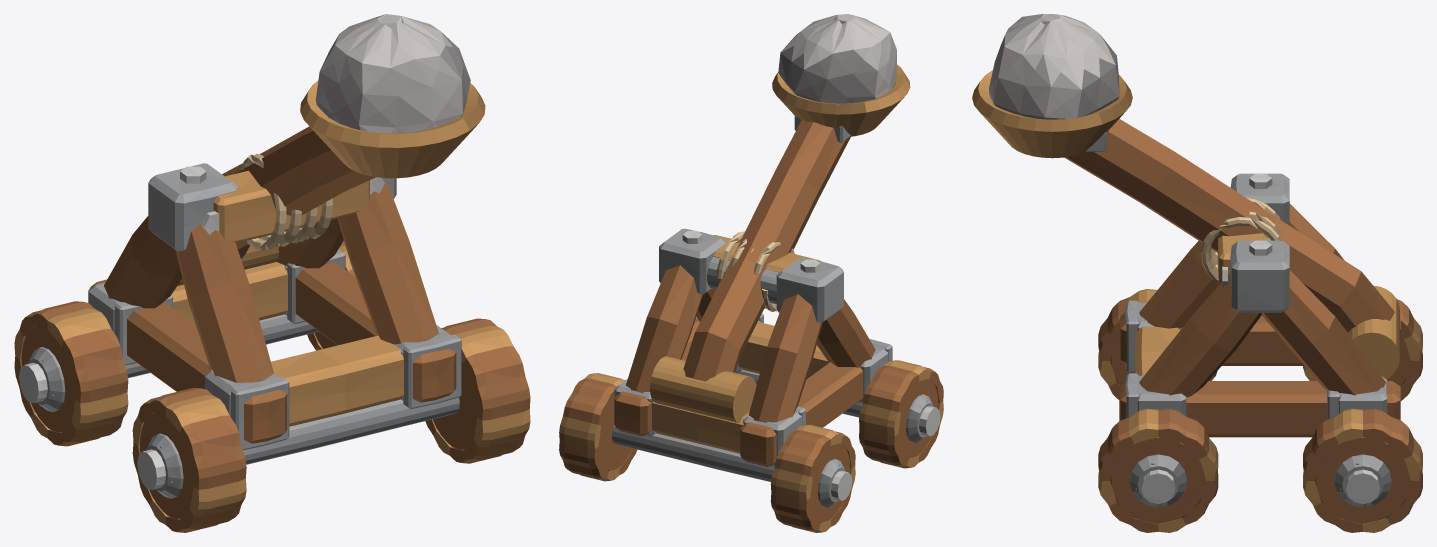
File: stonewarden.glb
3 views of the same model, side by side, from view 1: azimuth 30°, elevation 25°; view 2: azimuth 150°, elevation 25°; view 3: azimuth 270°, elevation 25° (orthographic). The views are drawn at different scales.
Parts seen in each view (by area): view 1: Catapult — supported angular loaded stone, Catapult — front shaped A frame 1, Catapult — front shaped A frame -1, Siege carriage — wheel 1 -0.285 — source angular joined timb (×6), Siege carriage — wheel 1 0.285 — source angular joined timbe (×6), Siege carriage — chamfered cross timber -0.28, Siege carriage — chamfered main timber 1, Catapult — deep open wooden stone bowl and turned lip, Siege carriage — wheel -1 -0.285 — source angular joined tim (×5), Siege carriage — chamfered main timber -1, Catapult — single inclined chamfered throwing beam, Siege carriage — physical axle -0.285 (+21 smaller); view 2: Catapult — single inclined chamfered throwing beam, Catapult — supported angular loaded stone, Catapult — rear shaped A frame 1, Catapult — rear shaped A frame -1, Catapult — rear transverse loading winch, Siege carriage — chamfered main timber 1, Siege carriage — wheel 1 0.285 — source angular joined timbe (×4), Siege carriage — wheel 1 -0.285 — source angular joined timb (×4), Siege carriage — wheel -1 0.285 — source angular joined timb (×4), Catapult — deep open wooden stone bowl and turned lip, Siege carriage — physical axle 0.285, Catapult — broad metal pivot collar 1 (+17 smaller); view 3: Catapult — single inclined chamfered throwing beam, Catapult — supported angular loaded stone, Siege carriage — chamfered main timber -1, Catapult — rear shaped A frame -1, Catapult — front shaped A frame -1, Catapult — deep open wooden stone bowl and turned lip, Siege carriage — wheel -1 0.285 — chamfered inner timber dis, Siege carriage — wheel -1 -0.285 — chamfered inner timber di, Catapult — broad metal pivot collar -1, Catapult — front shaped A frame 1, Siege carriage — wheel -1 -0.285 — source angular joined tim (×4), Siege carriage — wheel -1 0.285 — source angular joined timb (×4) (+15 smaller).
Part boxes in pixels (bbox=[...]): Catapult — supported angular loaded stone: bbox=[315, 14, 470, 133]; Catapult — front shaped A frame 1: bbox=[175, 223, 273, 382]; Catapult — front shaped A frame -1: bbox=[337, 182, 438, 344]; Siege carriage — wheel 1 -0.285 — source angular joined timb (×6): bbox=[150, 387, 246, 529]; Siege carriage — wheel 1 0.285 — source angular joined timbe (×6): bbox=[31, 301, 128, 442]; Siege carriage — chamfered cross timber -0.28: bbox=[271, 335, 403, 426]; Siege carriage — chamfered main timber 1: bbox=[88, 279, 287, 443]; Catapult — deep open wooden stone bowl and turned lip: bbox=[300, 80, 485, 178]; Siege carriage — wheel -1 -0.285 — source angular joined tim (×5): bbox=[456, 326, 530, 460]; Siege carriage — chamfered main timber -1: bbox=[295, 262, 456, 402]; Catapult — single inclined chamfered throwing beam: bbox=[222, 126, 375, 258]; Siege carriage — physical axle -0.285: bbox=[243, 397, 459, 464]; Catapult — single inclined chamfered throwing beam: bbox=[683, 120, 850, 381]; Catapult — supported angular loaded stone: bbox=[778, 14, 896, 103]; Catapult — rear shaped A frame 1: bbox=[748, 294, 822, 422]; Catapult — rear shaped A frame -1: bbox=[626, 265, 702, 392]; Catapult — rear transverse loading winch: bbox=[650, 356, 756, 423]; Siege carriage — chamfered main timber 1: bbox=[740, 362, 863, 466]; Siege carriage — wheel 1 0.285 — source angular joined timbe (×4): bbox=[770, 430, 830, 520]; Siege carriage — wheel 1 -0.285 — source angular joined timb (×4): bbox=[859, 365, 918, 455]; Siege carriage — wheel -1 0.285 — source angular joined timb (×4): bbox=[559, 378, 616, 468]; Catapult — deep open wooden stone bowl and turned lip: bbox=[772, 64, 910, 136]; Siege carriage — physical axle 0.285: bbox=[612, 425, 774, 481]; Catapult — broad metal pivot collar 1: bbox=[776, 257, 843, 322]; Catapult — single inclined chamfered throwing beam: bbox=[1064, 119, 1394, 332]; Catapult — supported angular loaded stone: bbox=[989, 14, 1119, 119]; Siege carriage — chamfered main timber -1: bbox=[1119, 381, 1400, 437]; Catapult — rear shaped A frame -1: bbox=[1261, 270, 1385, 395]; Catapult — front shaped A frame -1: bbox=[1139, 273, 1261, 397]; Catapult — deep open wooden stone bowl and turned lip: bbox=[972, 70, 1132, 158]; Siege carriage — wheel -1 0.285 — chamfered inner timber dis: bbox=[1315, 437, 1410, 523]; Siege carriage — wheel -1 -0.285 — chamfered inner timber di: bbox=[1110, 437, 1206, 523]; Catapult — broad metal pivot collar -1: bbox=[1230, 240, 1289, 312]; Catapult — front shaped A frame 1: bbox=[1139, 241, 1218, 328]; Siege carriage — wheel -1 -0.285 — source angular joined tim (×4): bbox=[1107, 408, 1208, 458]; Siege carriage — wheel -1 0.285 — source angular joined timb (×4): bbox=[1312, 408, 1413, 458].
Bounding box in the file's own units: 1.03 × 1.37 × 1.26.
